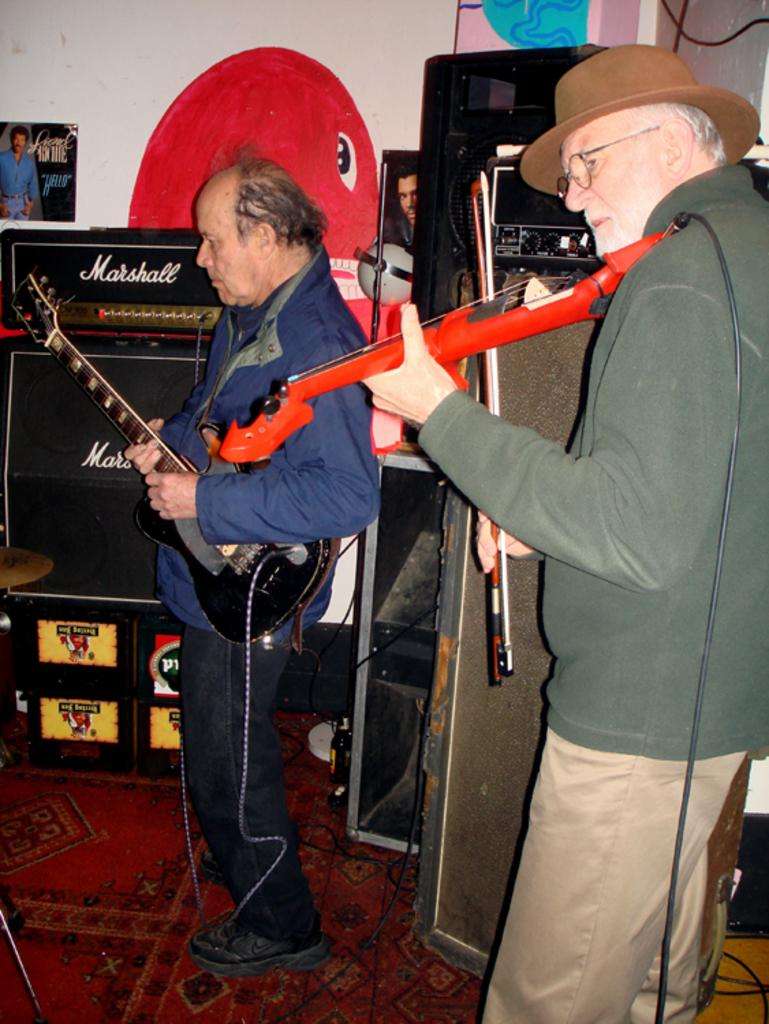Hat: (520, 43, 759, 196)
